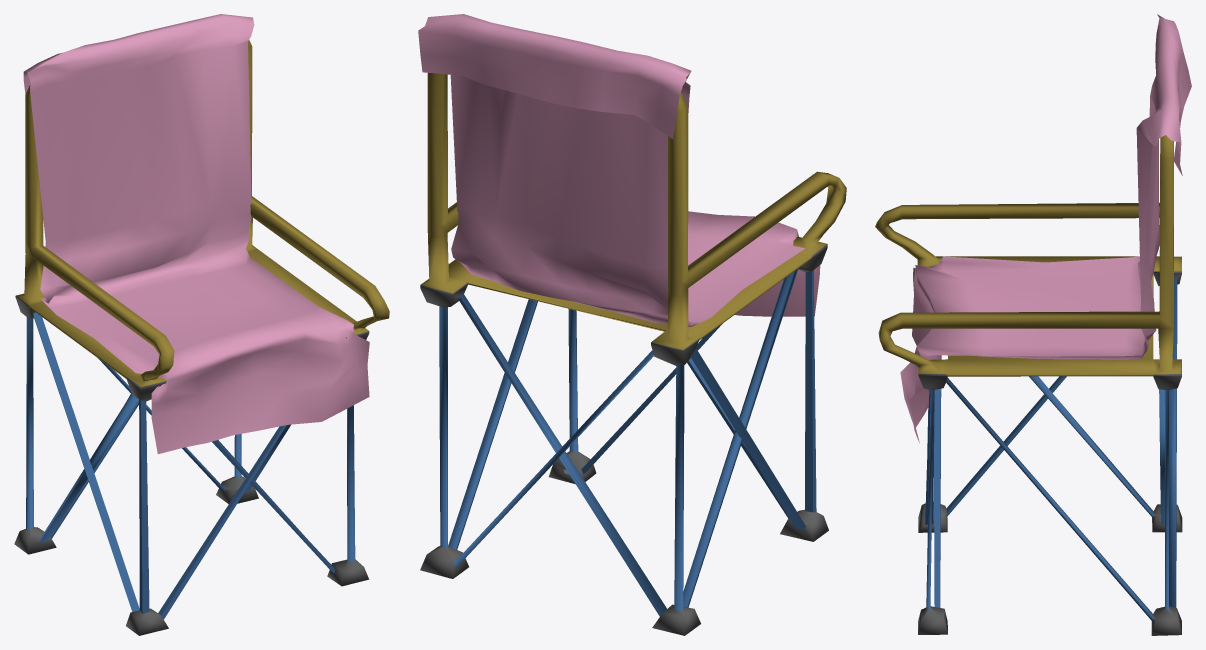
File: Chair_1.FBX
3 renders of one model, left to right at view 1: azimuth 30°, elevation 25°; view 2: azimuth 150°, elevation 25°; view 3: azimuth 270°, elevation 25°, orthographic. The views are drawn at different scales.
Visible parts, largest first — view 1: RetopoGroup1; view 2: RetopoGroup1; view 3: RetopoGroup1.
Boxes of the visible parts, x1,y1,x2,y2 form: RetopoGroup1: (14,14,389,635); RetopoGroup1: (418,14,846,635); RetopoGroup1: (875,14,1191,635).
Bounding box in the file's own units: 71.92 × 144 × 80.26.
